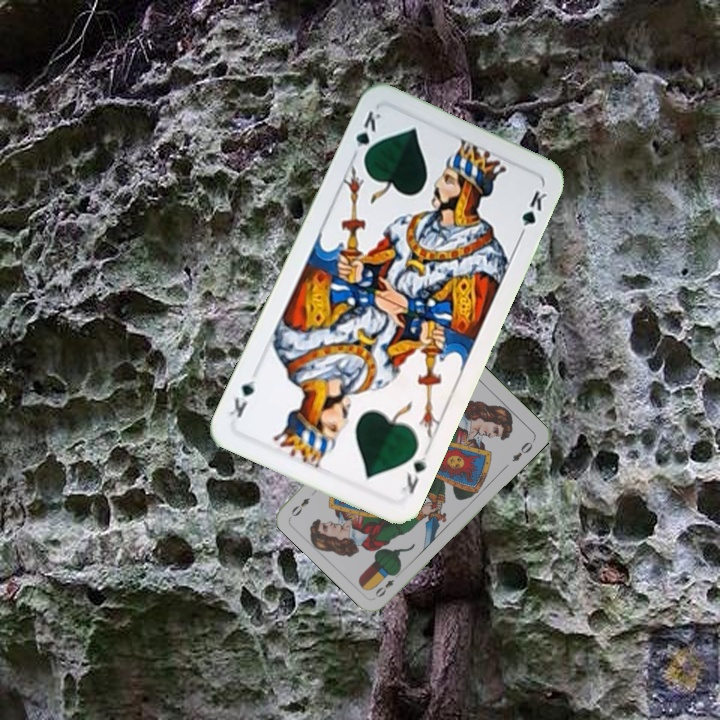EO: (371, 567, 403, 600)
GK: (348, 106, 384, 164), (397, 443, 430, 496)
